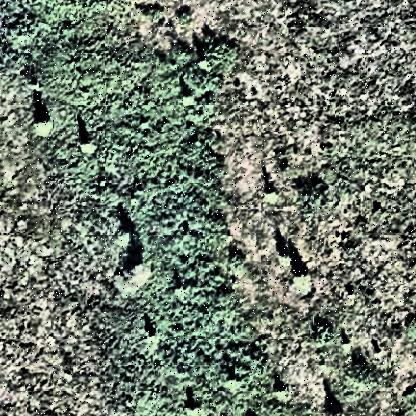tree-top: (120, 257, 154, 286), (117, 220, 141, 249), (290, 264, 314, 286), (31, 112, 53, 135), (79, 136, 97, 154), (264, 188, 282, 204), (184, 399, 202, 415), (326, 404, 347, 416)
